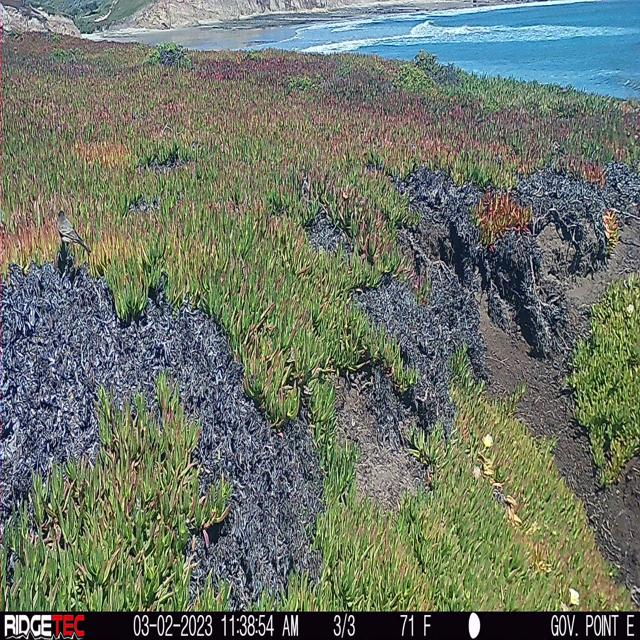bird: (55, 210, 92, 255)
